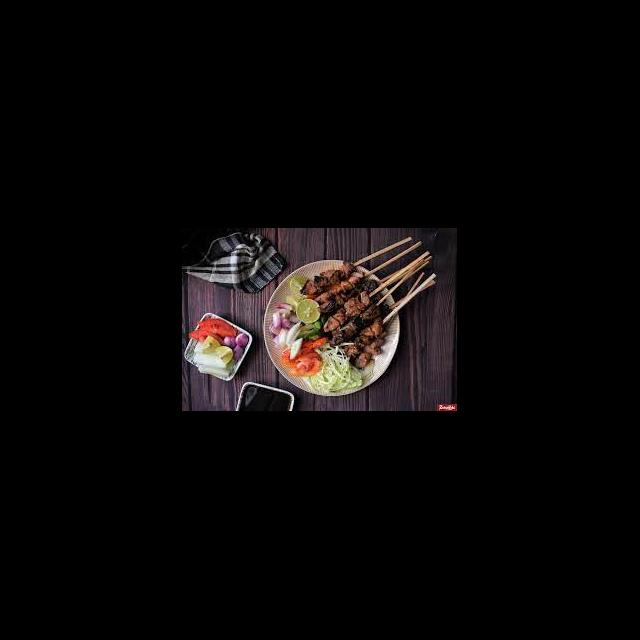food_waste: (294, 288, 379, 376)
